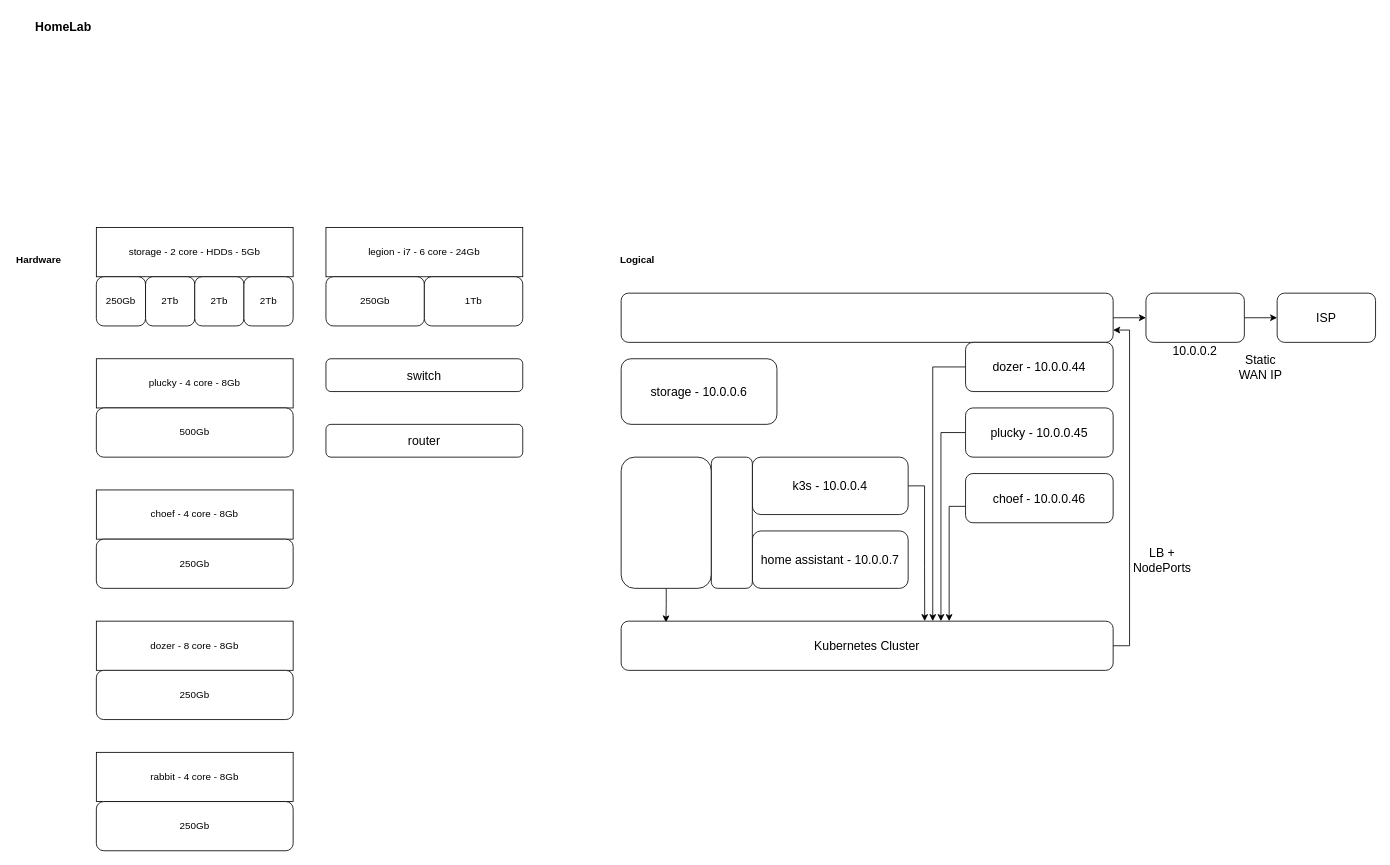
The diagram is 1390 pixels wide and 865 high, and some of its shapes have lost their labels. Here are the shapes that lost their labels. From the top down, the centre of each, then its label:
At point 866,317: "Subnet - 10.0.0.0/24 - GW - 10.0.0.2".
At point 1194,317: "Firewall".
At point 665,522: "legion - 10.0.0.198".
At point 731,522: "libvirt".
